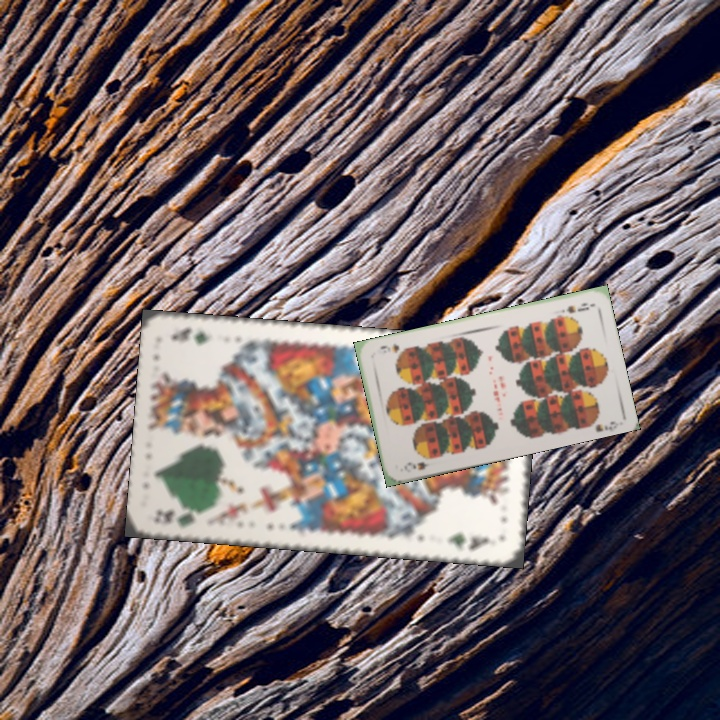GK: (150, 505, 210, 530)
S9: (555, 299, 591, 316), (400, 458, 432, 475)
